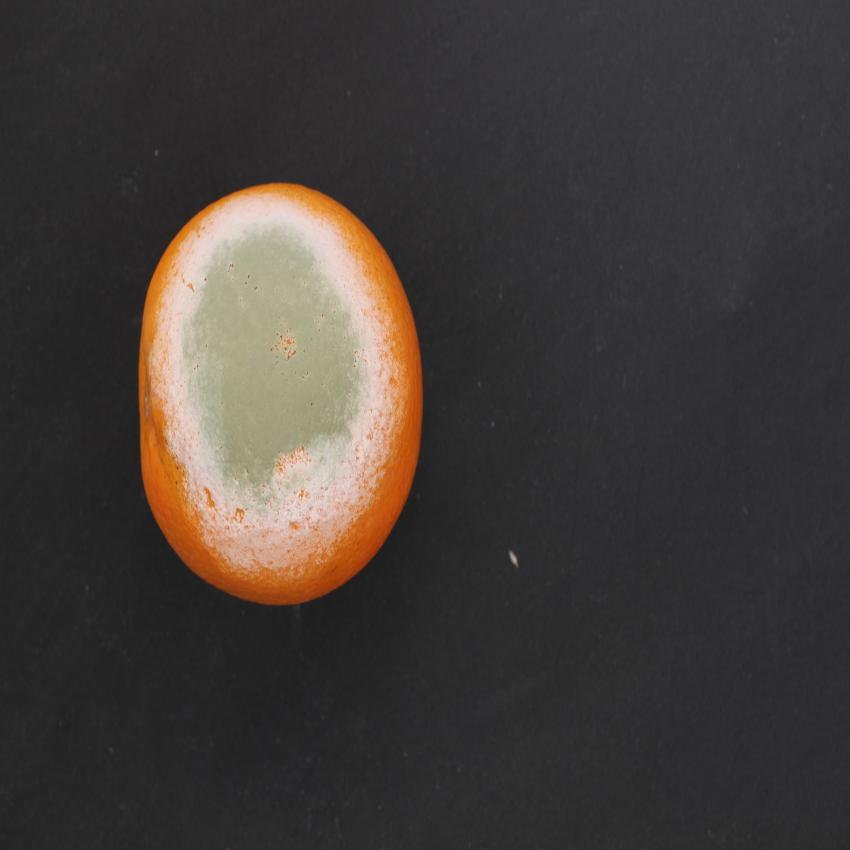Mal estado: (122, 154, 440, 627)
